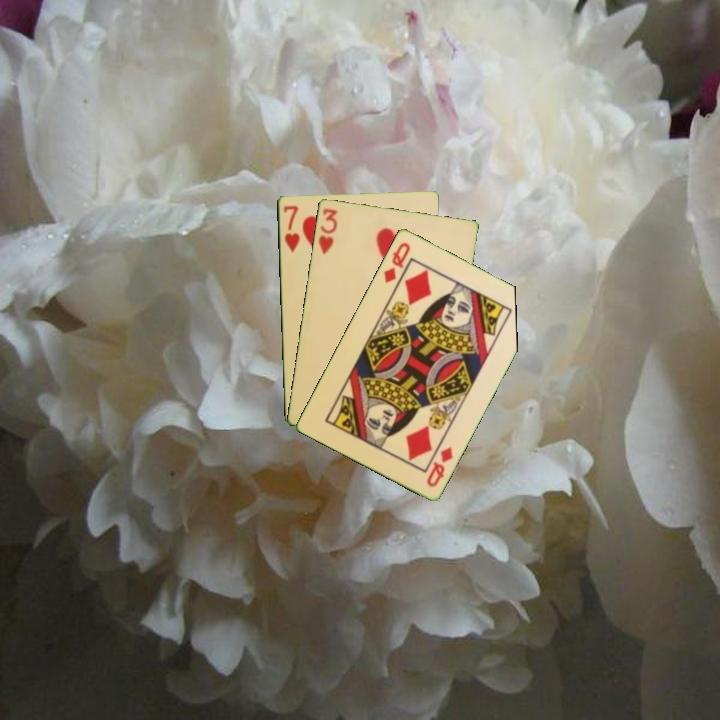3h: (314, 205, 340, 257)
7h: (279, 202, 302, 255)
Qd: (380, 238, 413, 286), (423, 442, 456, 490)
